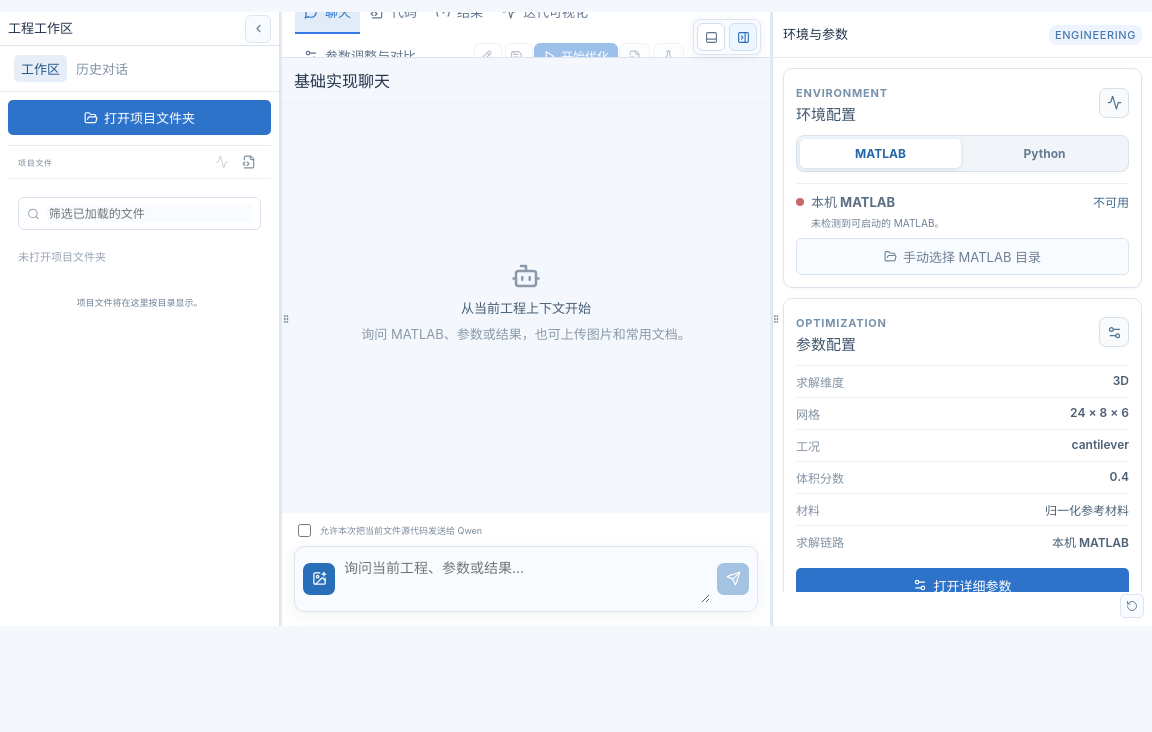
Test: EngineeringWorkspace mount › explains when project discovery was bounded to keep the workspace responsive
This screenshot has width=1152, height=732.
Click the button with aria-label "新建或打开研究项目" at point(140, 118), box [8, 100, 271, 135]
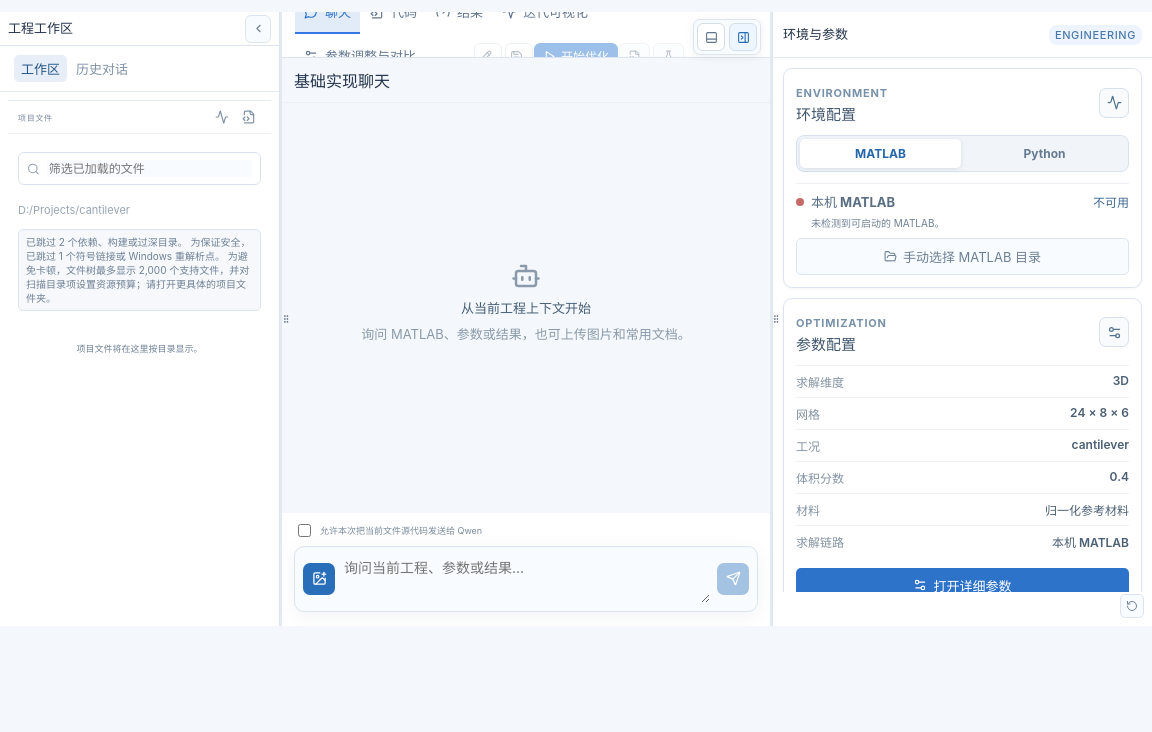
expect the text "文件树最多显示 2,000 个支持文件" is shown: met, box [26, 236, 250, 304]
